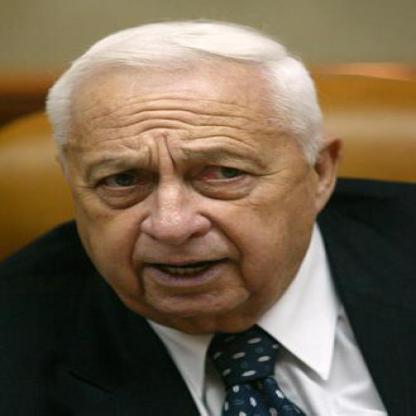face: (60, 35, 319, 326)
